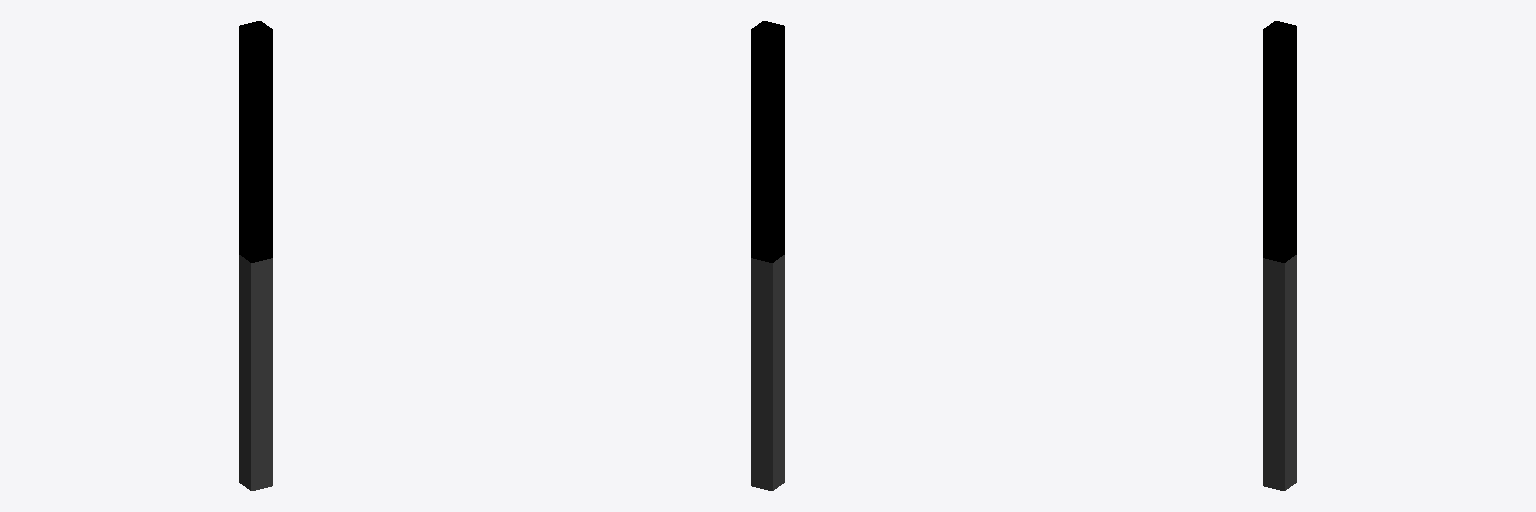
robot.urdf — Fourbar:
<?xml version="1.0"?>

<robot name="Fourbar">
	<link name="base_link">
	</link>

  <link name="link1">
    <inertial>
      <origin xyz="0 0 -0.5" rpy="0 0. 0." />
      <mass value="1" />
      <inertia ixx=".0841667" ixy="0" ixz="0" iyy=".0841667" iyz="0" izz=".00166667" />
    </inertial>
    <visual>
      <origin xyz="0 0 -0.5" rpy="0 0. 0." />
      <geometry>
         <!-- <cylinder length="1" radius=".05" /> -->
         <box size=".1 .1 1" />
      </geometry>
      <material name="black">
	       <color rgba="0 0 0 1" />
      </material>
    </visual>
  </link>

  <link name="link2">
    <inertial>
      <origin xyz="0 0 -0.5" rpy="0 0. 0." />
      <mass value="1" />
      <inertia ixx=".0841667" ixy="0" ixz="0" iyy=".0841667" iyz="0" izz=".00166667" />
    </inertial>
    <visual>
      <origin xyz="0 0 -0.5" rpy="0 0. 0." />
      <geometry>
         <box size=".1 .1 1" />
      </geometry>
      <material name="red">
	       <color rgba="0.3 0.3 0.3 1" />
      </material>
    </visual>
  </link>

  <link name="link3">
    <inertial>
      <origin xyz="0 0 -0.5" rpy="0 0. 0." />
      <mass value="1" />
      <inertia ixx=".0841667" ixy="0" ixz="0" iyy=".0841667" iyz="0" izz=".00166667" />
    </inertial>
    <visual>
      <origin xyz="0 0 -0.5" rpy="0 0. 0." />
      <geometry>
         <!-- <cylinder length="1" radius=".05" /> -->
         <box size=".1 .1 1" />
      </geometry>
      <material name="green">
	       <color rgba="0.7 0.7 0.7 1" />
      </material>
    </visual>
  </link>

  <link name="link4">
    <inertial>
      <origin xyz="0 0 -0.5" rpy="0 0. 0." />
      <mass value="1" />
      <inertia ixx=".0841667" ixy="0" ixz="0" iyy=".0841667" iyz="0" izz=".00166667" />
    </inertial>
    <visual>
      <origin xyz="0 0 -0.5" rpy="0 0. 0." />
      <geometry>
         <box size=".1 .1 1" />
      </geometry>
      <material name="blue">
	       <color rgba="0.9 0.9 0.9 1" />
      </material>
    </visual>
  </link>



	<joint name="jointb1" type="continuous">
		<parent link="base_link" />
		<child link="link1" />
		<origin rpy="0.0 0 0" xyz="0 0 2.1" />
		<axis xyz="1 0 0" />
	</joint>

  <joint name="joint12" type="continuous">
		<parent link="link1" />
		<child link="link2" />
		<origin rpy="0.0 0 0" xyz="0 0 -1" />
		<axis xyz="1 0 0" />
	</joint>

  <joint name="jointb3" type="continuous">
		<parent link="base_link" />
		<child link="link3" />
		<origin rpy="-0.0 0 0" xyz="0 0 2.1" />
		<axis xyz="1 0 0" />
	</joint>

  <joint name="joint34" type="continuous">
		<parent link="link3" />
		<child link="link4" />
		<origin rpy="-0.0 0 0" xyz="0 0 -1" />
		<axis xyz="1 0 0" />
	</joint>

	<loop_joint name="joint24" type="continuous">
    <axis xyz="1 0 0"/>
		<!-- x=[xyz] & q=[rpy] describe tranformation from the parent frame to joint frame  -->
		<!-- parent joint frame -> link1's frame -> joint frame -->
    <link1 link="link2" rpy="0 0 0" xyz="0 0 -1.0"/>
		<!-- x=[xyz] & q=[rpy] describe tranformation from the parent frame to joint frame  -->
		<!-- parent joint frame -> link2's frame -> joint frame -->
    <link2 link="link4" rpy="0 0 0" xyz="0 0 -1.0"/>
	</loop_joint>
</robot>

--- What the picture shows (computed from the rendered views, not written in the file) ---
The picture shows the robot from 3 angles, left to right: view 1: azimuth 30°, elevation 25°; view 2: azimuth 150°, elevation 25°; view 3: azimuth 330°, elevation 25°; orthographic projection.
Model Fourbar with 5 links and 4 joints (4 continuous), rooted at base_link, posed every joint at zero.
Links seen in each view (by area): view 1: link1, link2; view 2: link1, link2; view 3: link1, link2.
Link boxes in pixels (x1,y1,x2,y2): link1: [239, 21, 272, 262]; link2: [239, 255, 272, 490]; link1: [751, 21, 784, 262]; link2: [751, 255, 784, 490]; link1: [1263, 21, 1296, 262]; link2: [1263, 255, 1296, 490].
Size in the robot's own frame: 0.1 by 0.1 by 2 metres.
Geometry: primitives only (box / cylinder / sphere), no mesh files.